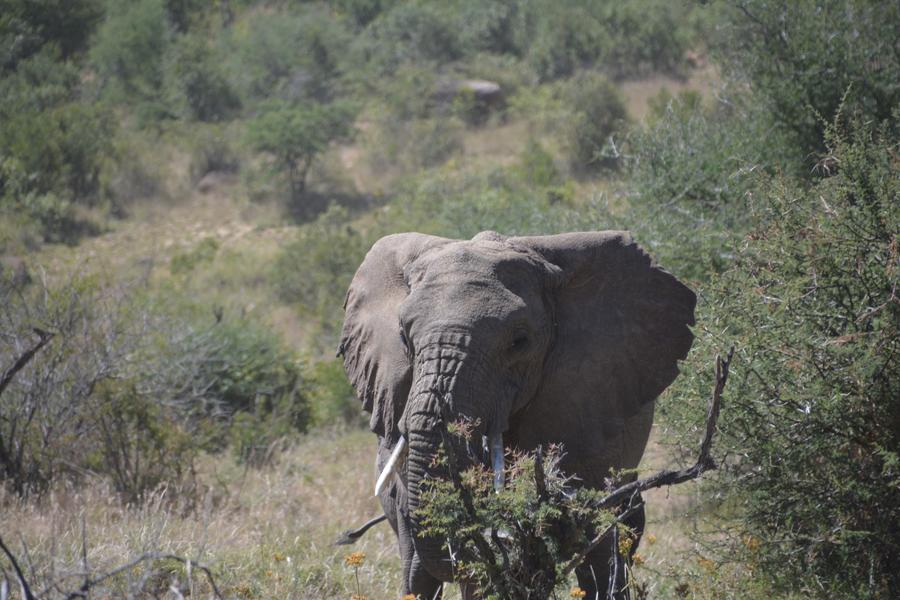elephant: (338, 225, 642, 576)
